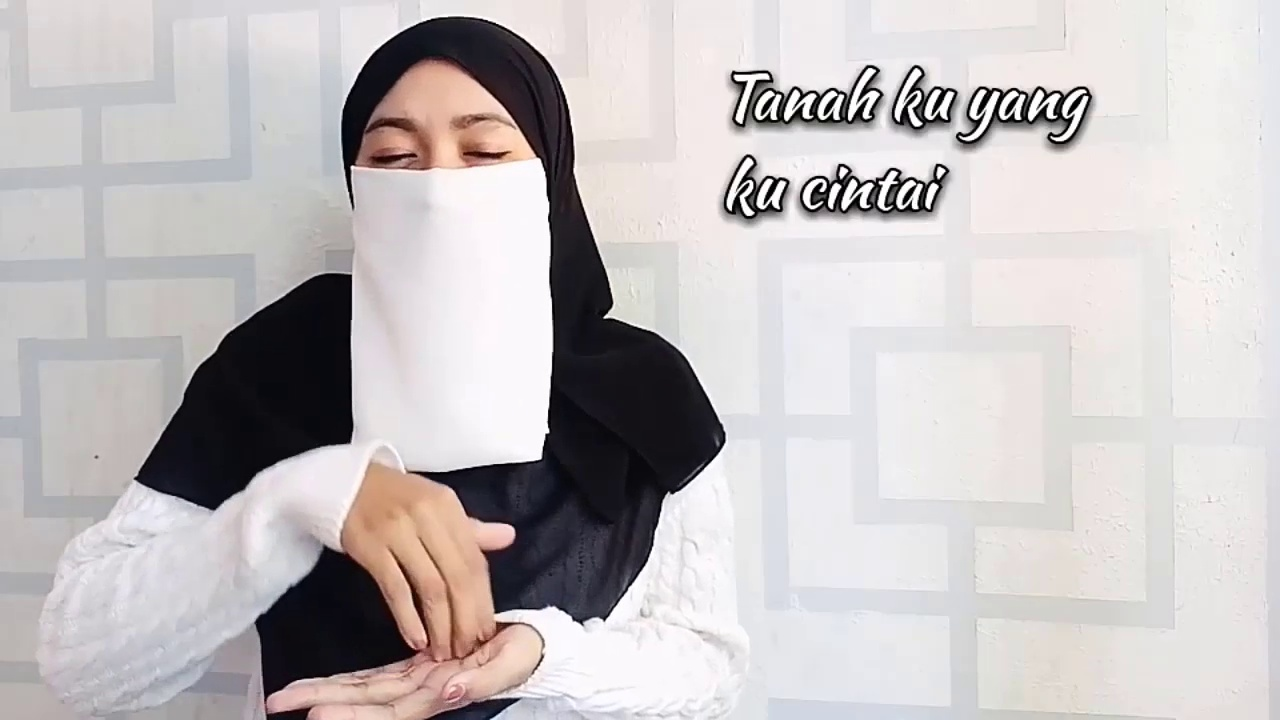TANAH: (317, 450, 560, 720)
